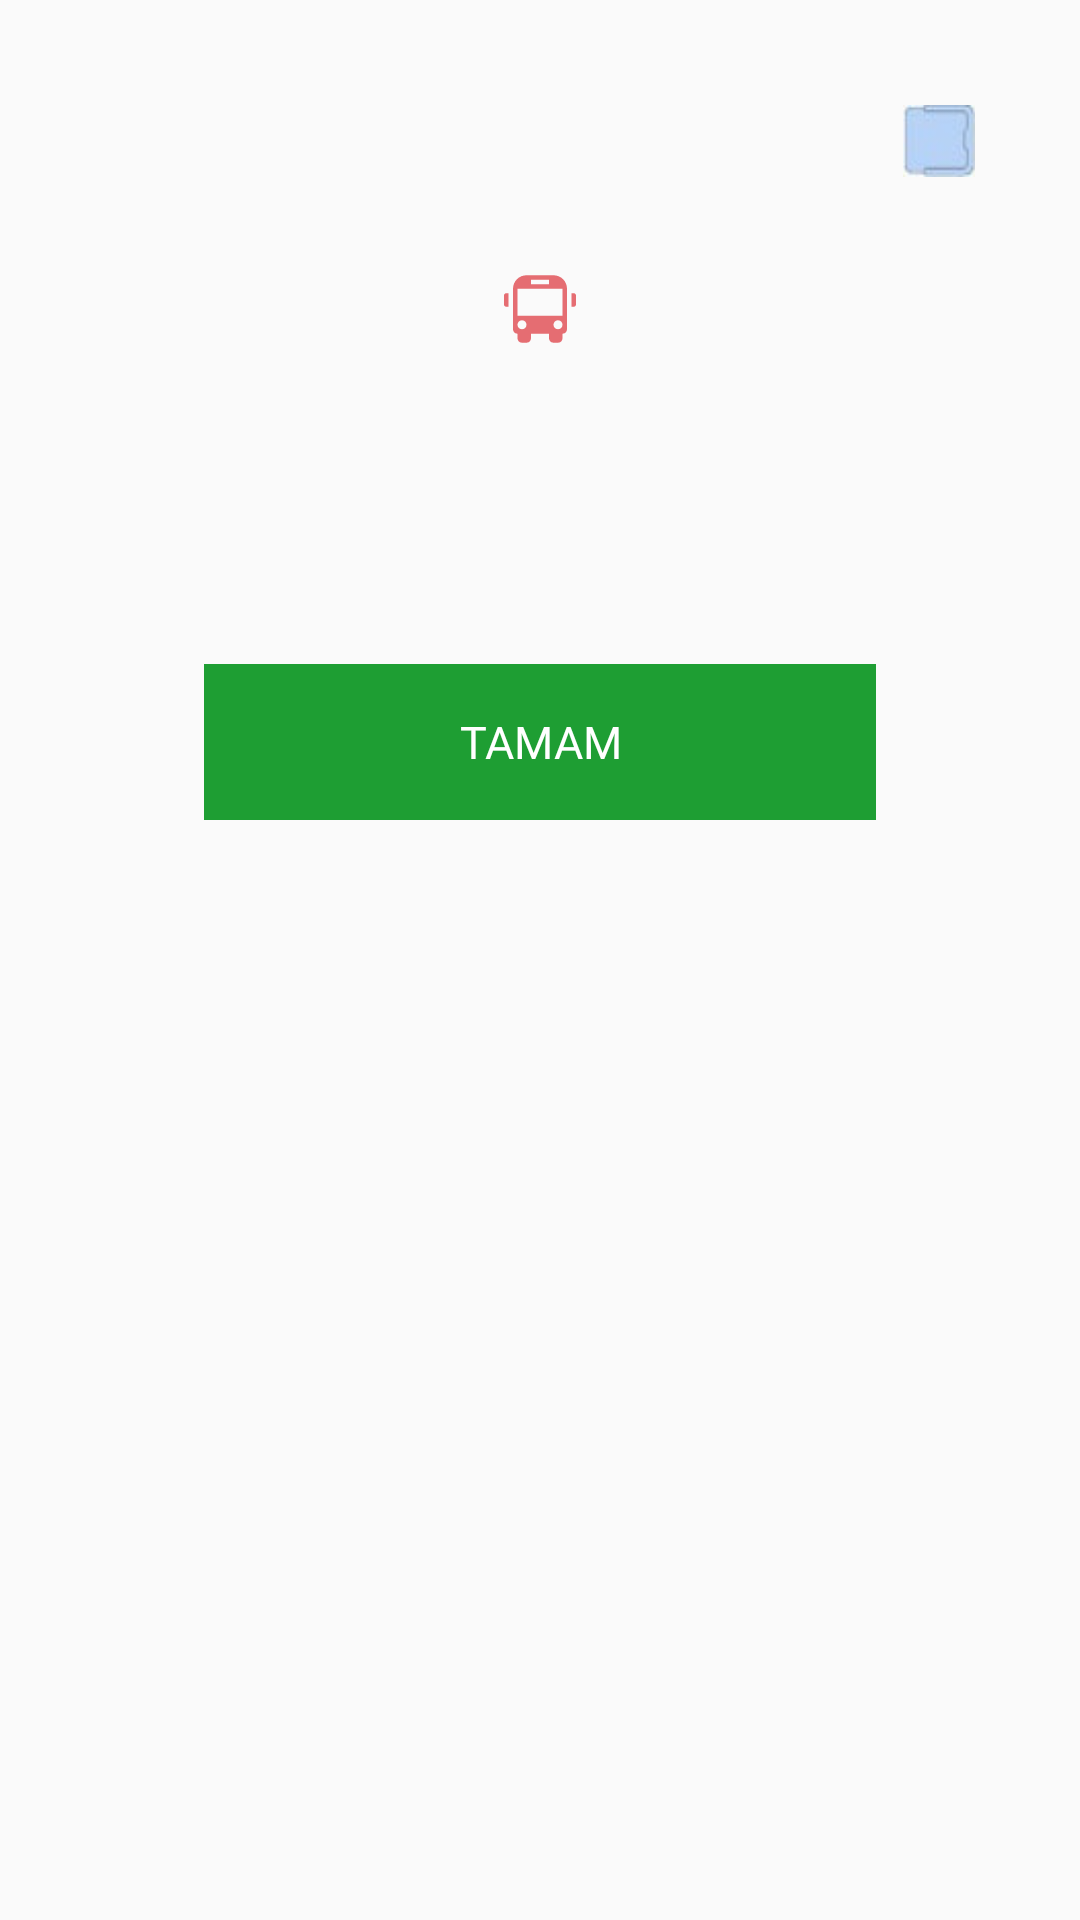

Named icons in this screenshot (1080w x 1920h) and their bounding boxes, BBox(x1, y1, x2, y2):
bus melon: BBox(504, 275, 576, 343)
